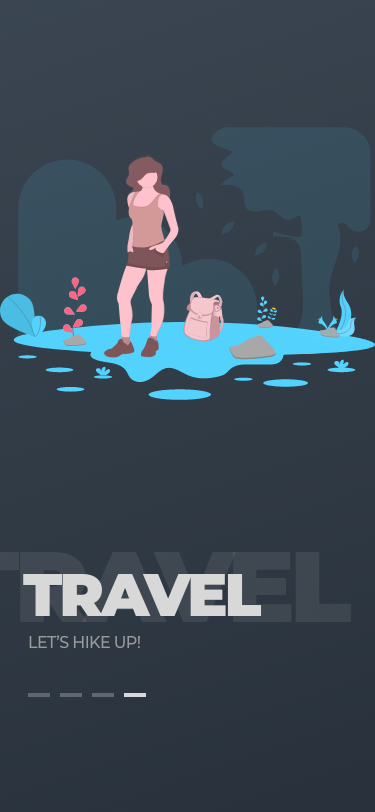Image: (1, 127, 375, 403)
PageIndicator: (28, 692, 147, 698)
Text: (23, 573, 262, 617), (29, 634, 142, 649)
